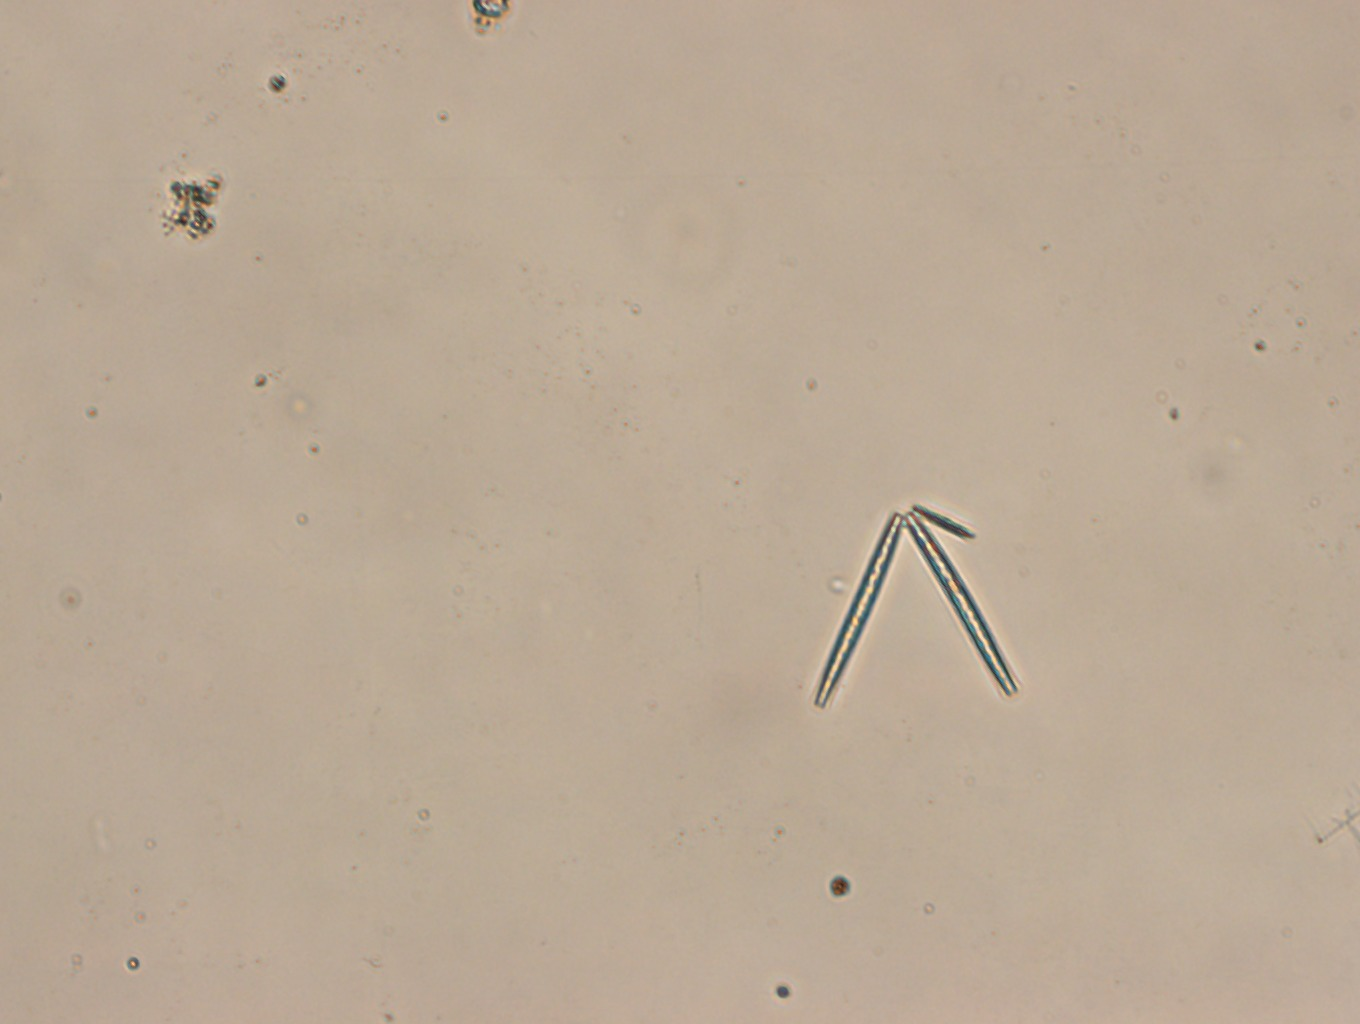thalassionema nitzschioides: (812, 511, 1017, 709)
